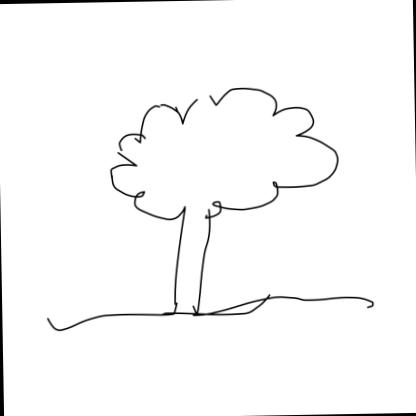crown_cloud: (107, 85, 338, 219)
root_none: (143, 294, 233, 345)
trunk_reflex: (172, 226, 211, 288)
